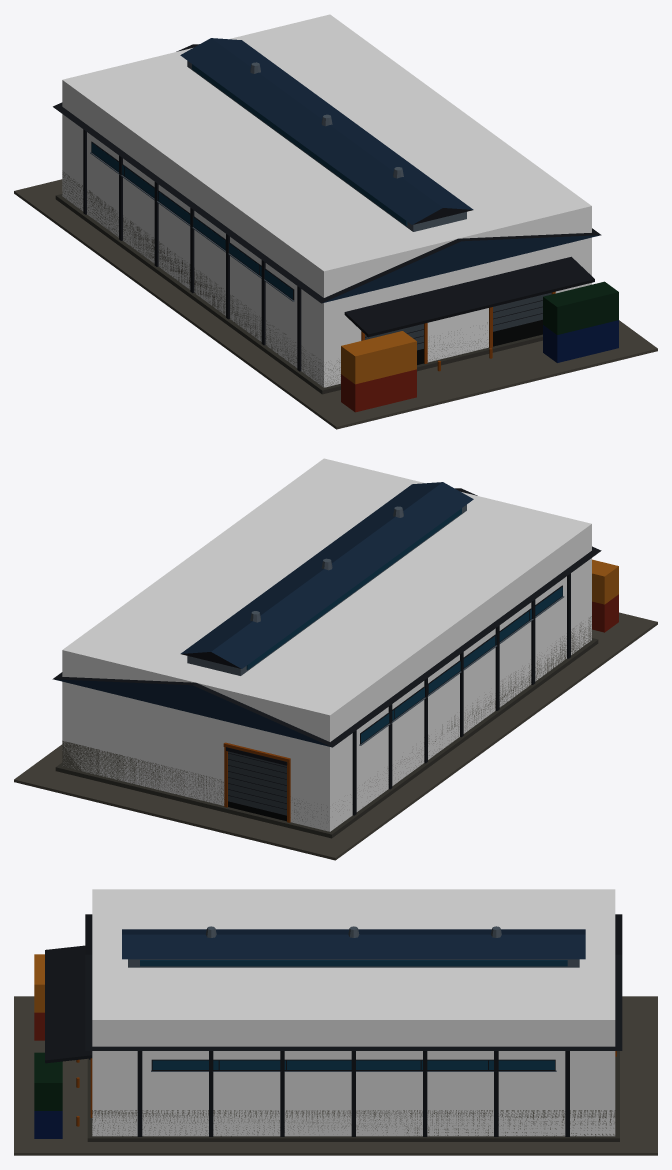
File: N04_port_warehouse.glb
3 renders of one model, top to bottom at view 1: azimuth 30°, elevation 25°; view 2: azimuth 150°, elevation 25°; view 3: azimuth 270°, elevation 25°, orthographic.
Visible parts, largest first — view 1: COL_Main, LOD0; view 2: COL_Main, LOD0; view 3: COL_Main, LOD0.
Part boxes in pixels (x1=…): COL_Main: x1=62, y1=14, x2=591, y2=387; LOD0: x1=14, y1=38, x2=657, y2=429; COL_Main: x1=62, y1=458, x2=591, y2=831; LOD0: x1=14, y1=482, x2=657, y2=860; COL_Main: x1=92, y1=889, x2=615, y2=1136; LOD0: x1=14, y1=914, x2=657, y2=1155.
Size of what is drawn, in the model's own units: 31.2 by 13.85 by 54.2.
